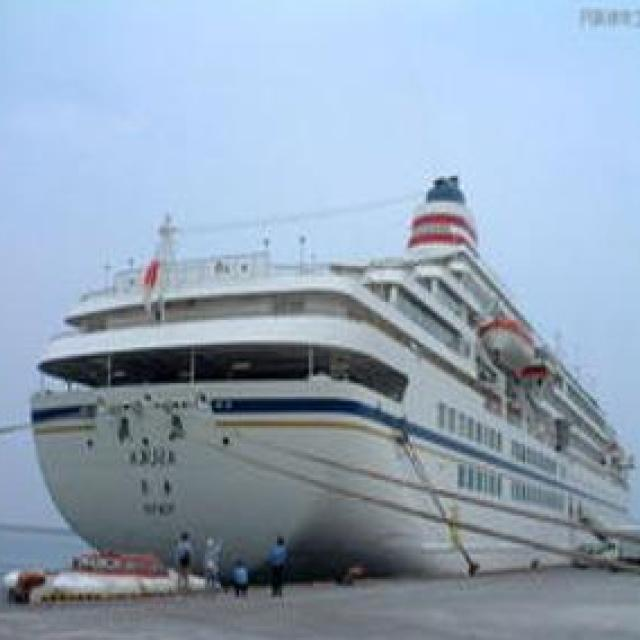houseboat: (5, 538, 213, 605)
passenger ship: (32, 176, 620, 581)
